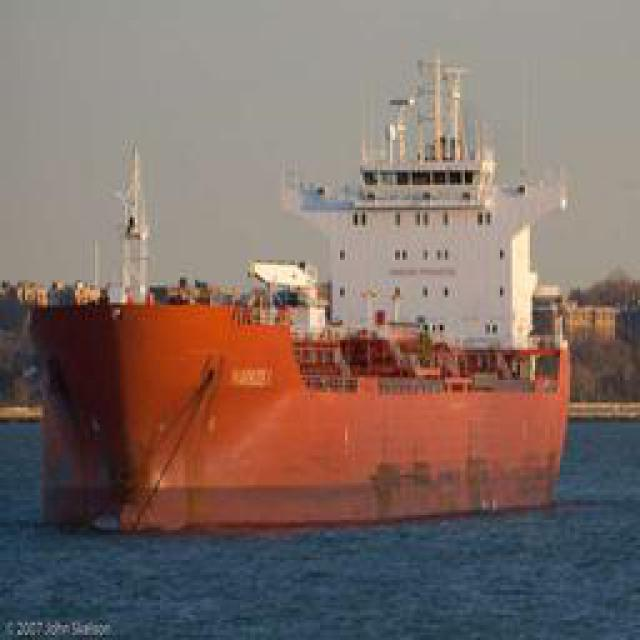Ship: (36, 217, 576, 527)
